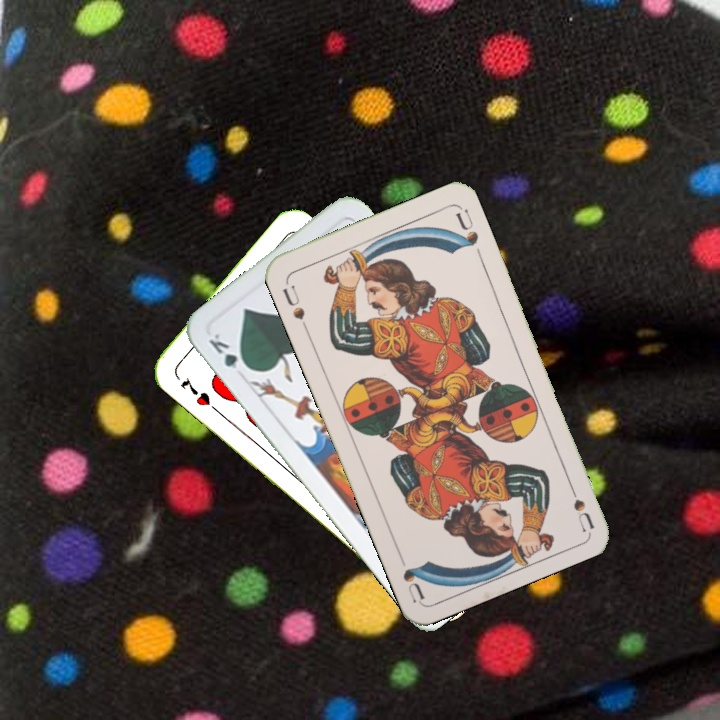GK: (204, 329, 253, 374)
H7: (176, 374, 213, 409)
SU: (563, 474, 596, 533), (278, 281, 311, 333)
